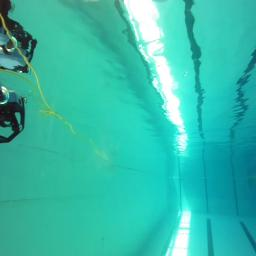front: (0, 84, 29, 145)
